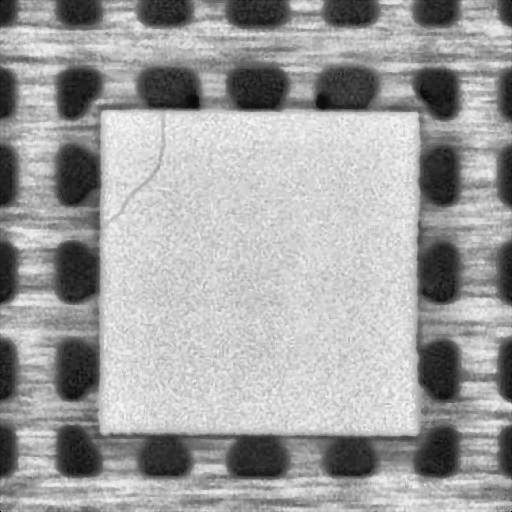DIE_CRACK: (106, 117, 164, 224)
